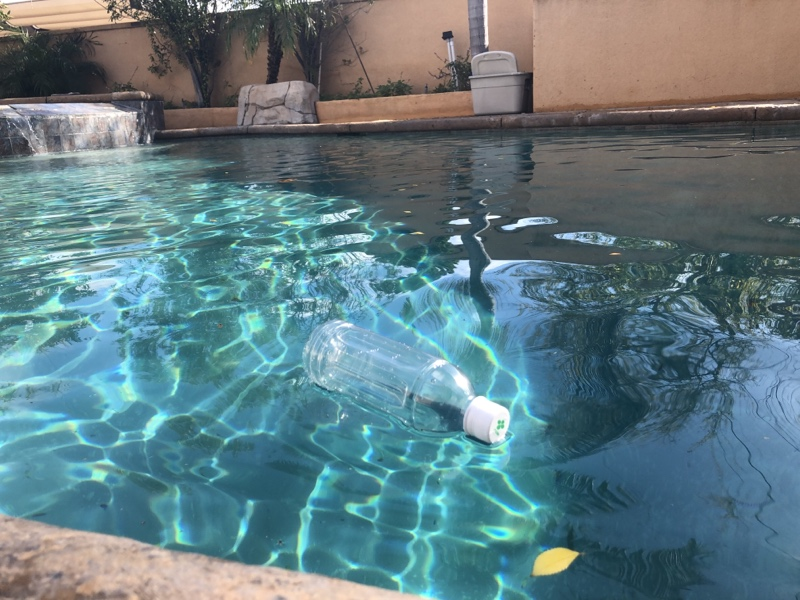Plastic Bottle: (301, 318, 512, 450)
